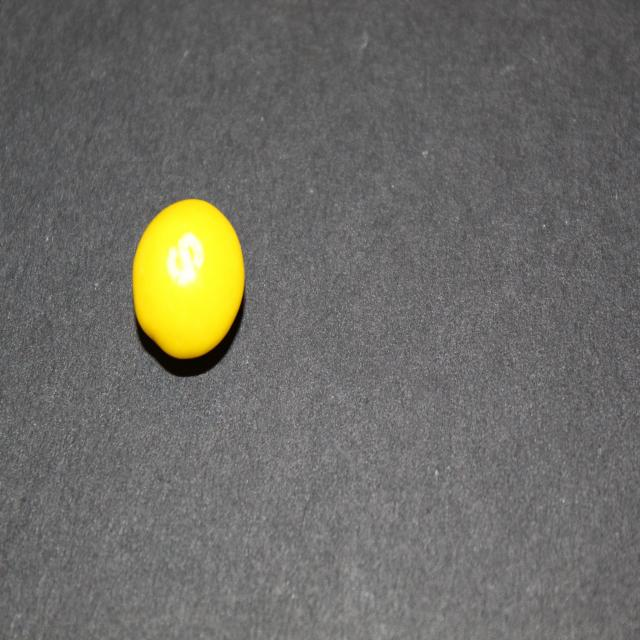smartie: (131, 199, 246, 364)
